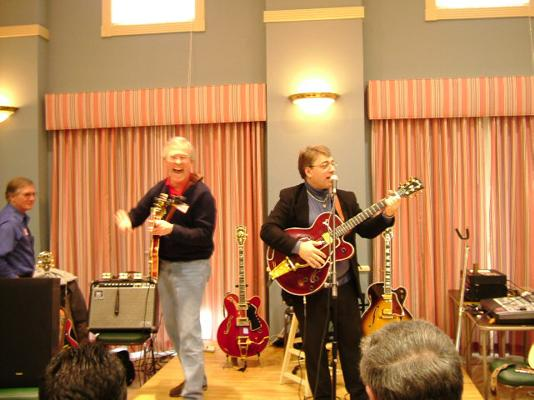person: (260, 145, 404, 400)
